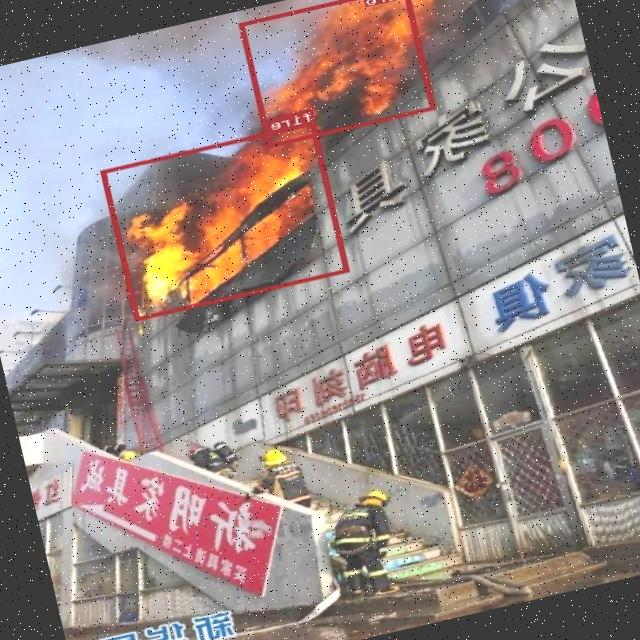fire: (100, 120, 350, 320), (239, 0, 436, 146)
